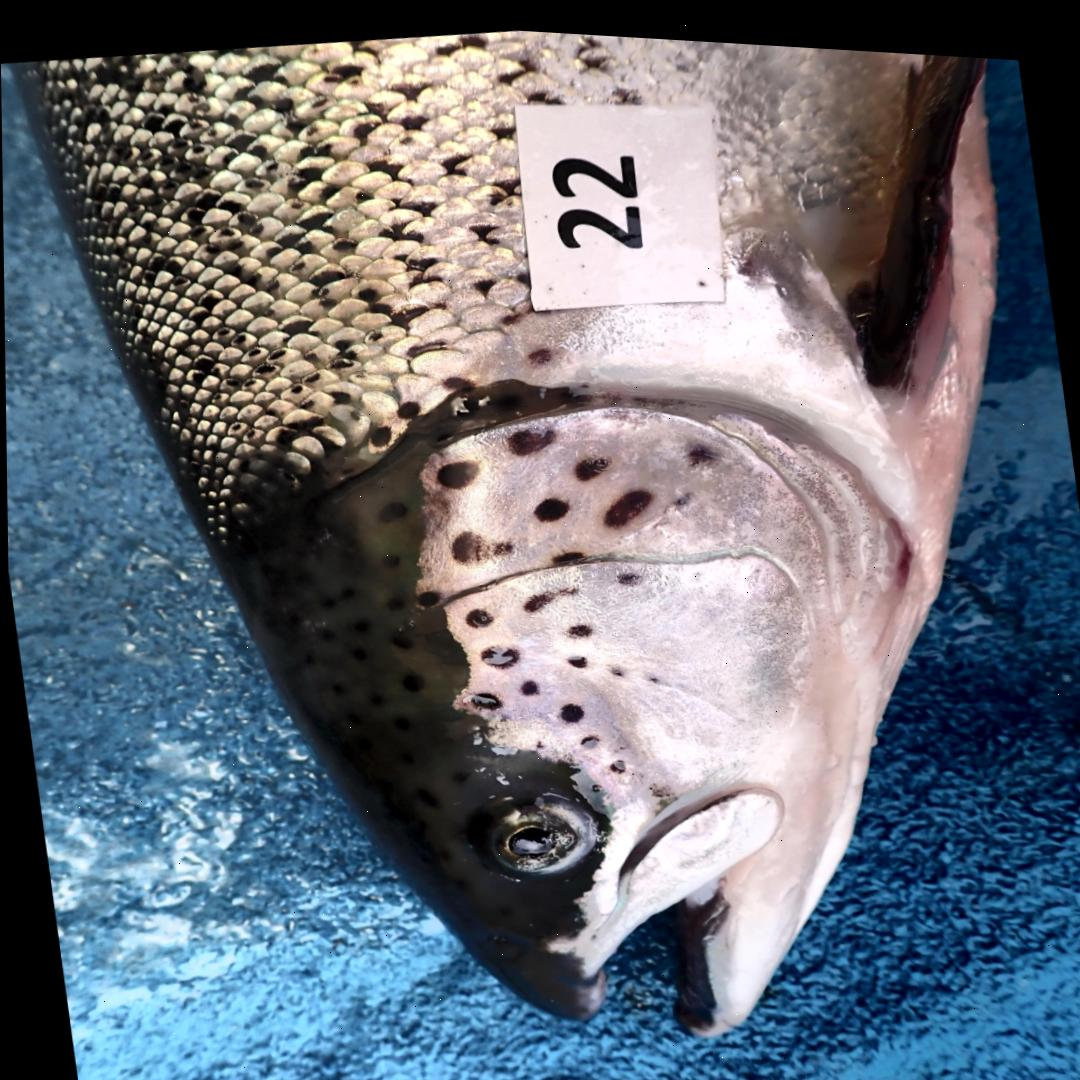spot: (449, 523, 512, 558), (602, 480, 650, 519), (520, 578, 574, 605), (506, 420, 554, 449), (434, 455, 476, 482), (572, 449, 608, 474), (478, 639, 518, 661), (532, 489, 566, 514), (684, 435, 716, 457), (466, 685, 499, 702), (464, 602, 490, 622), (556, 696, 582, 715), (550, 543, 584, 556), (414, 585, 437, 601), (615, 563, 638, 578), (565, 616, 591, 629), (519, 673, 537, 689), (671, 483, 688, 498), (577, 727, 595, 740), (566, 648, 584, 659), (609, 750, 623, 764), (608, 659, 620, 668), (647, 668, 658, 674)
